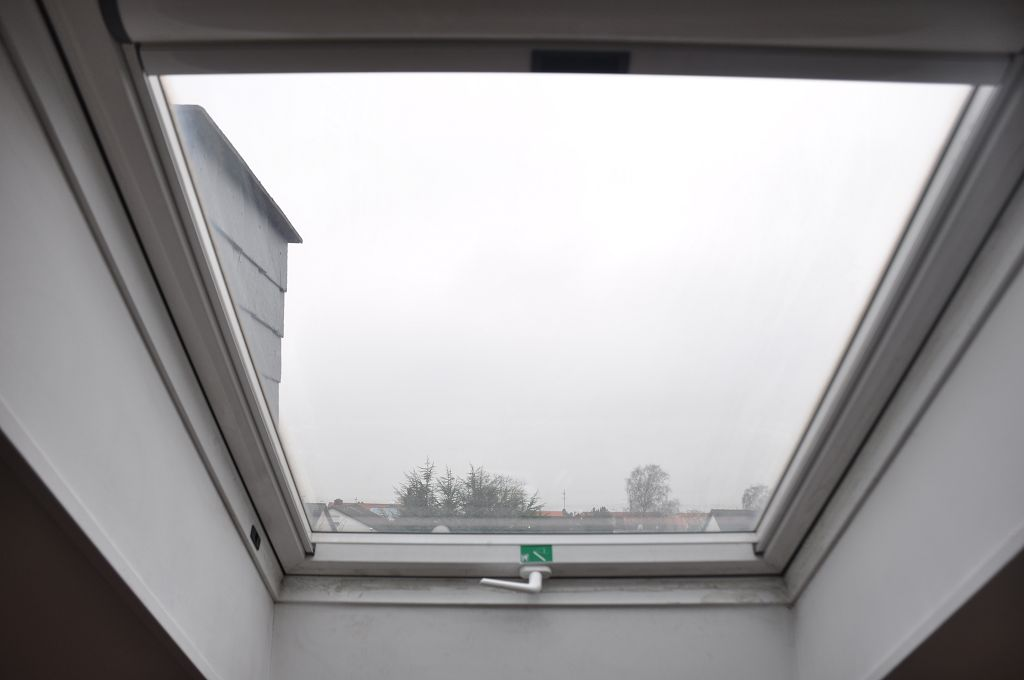windows: (138, 47, 846, 600)
